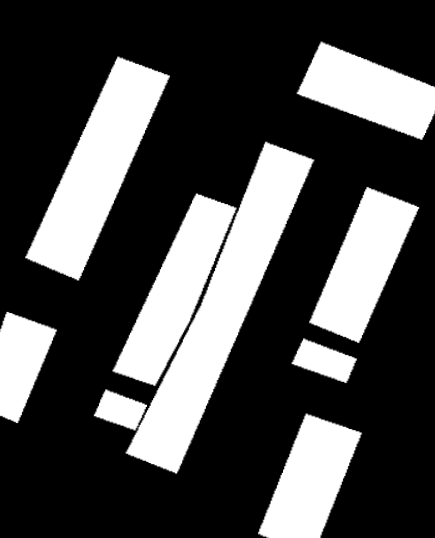parkingspot: (94, 142, 314, 474), (25, 57, 170, 281), (112, 194, 237, 386), (309, 187, 419, 343), (297, 42, 435, 140), (258, 414, 362, 538), (0, 312, 57, 423), (292, 338, 357, 383)
